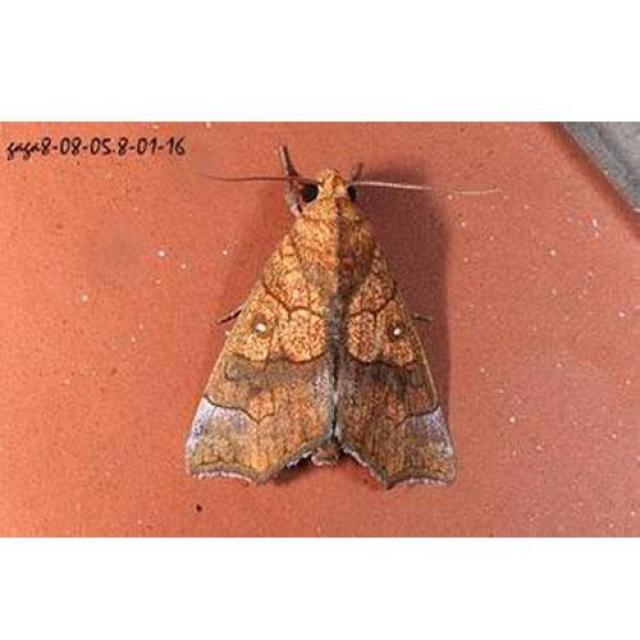BeetArmyWorm-Adult-: (181, 140, 470, 492)
